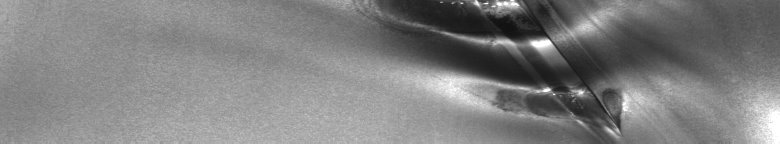ke: (376, 4, 628, 135)
